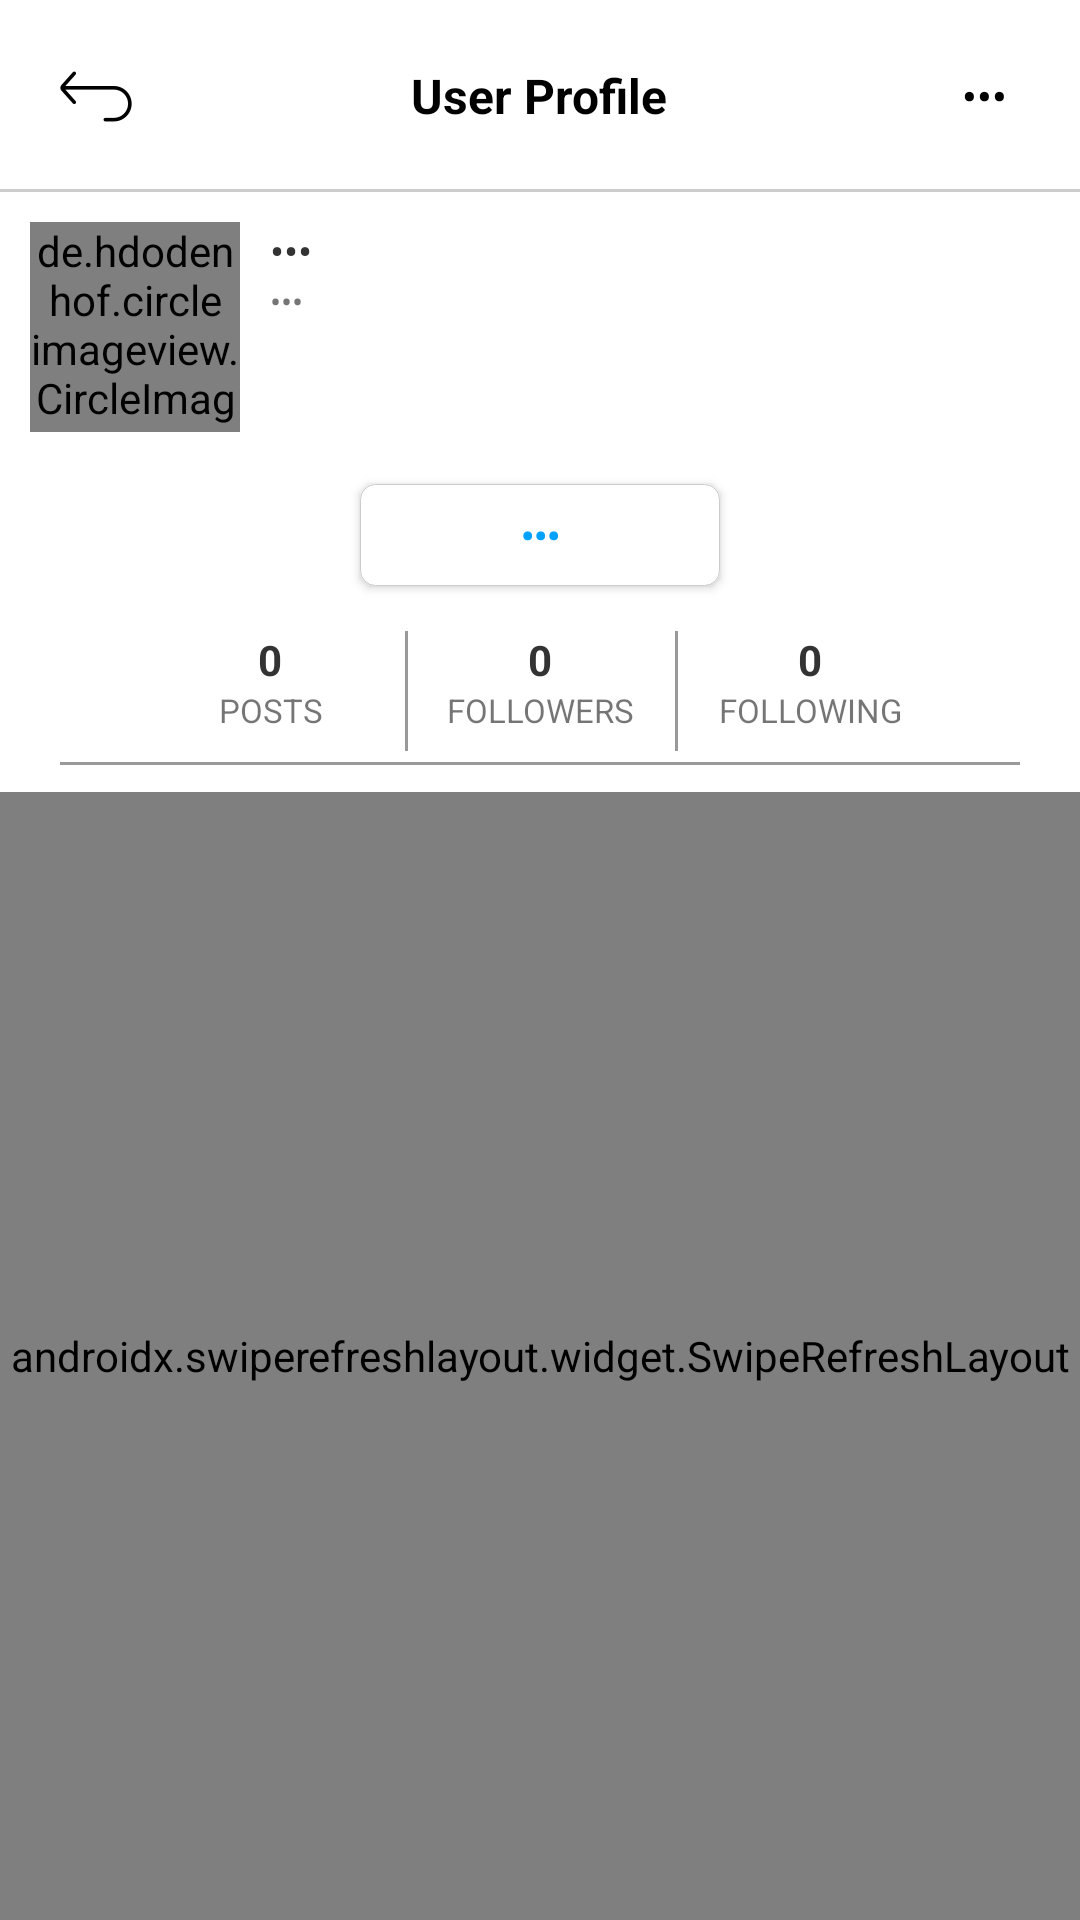

Icons on this 1080px x 1920px Android screen, each with its box as BBox(x1, y1, x2, y2):
back butt: BBox(60, 71, 132, 122)
